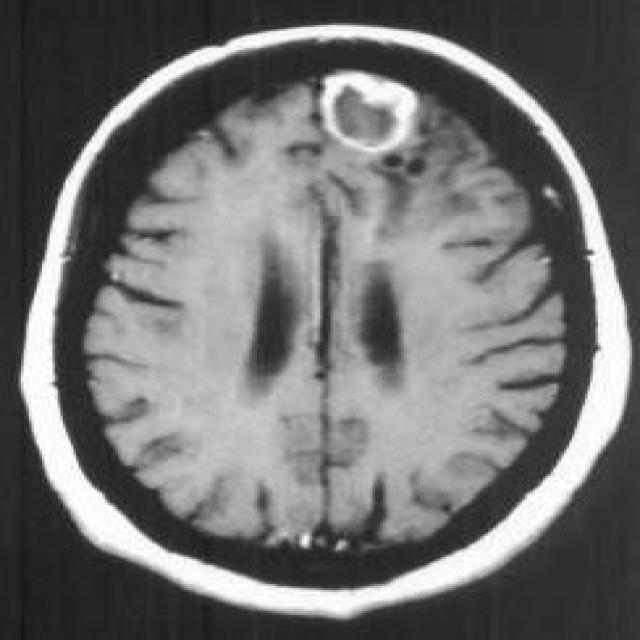Tumor-Cell: (302, 34, 448, 177)
